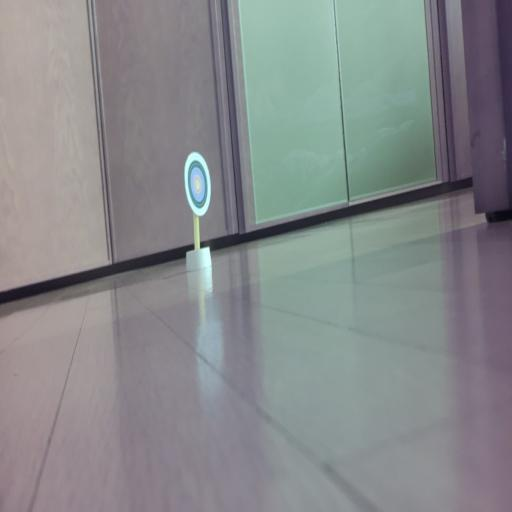target: (184, 152, 211, 216)
